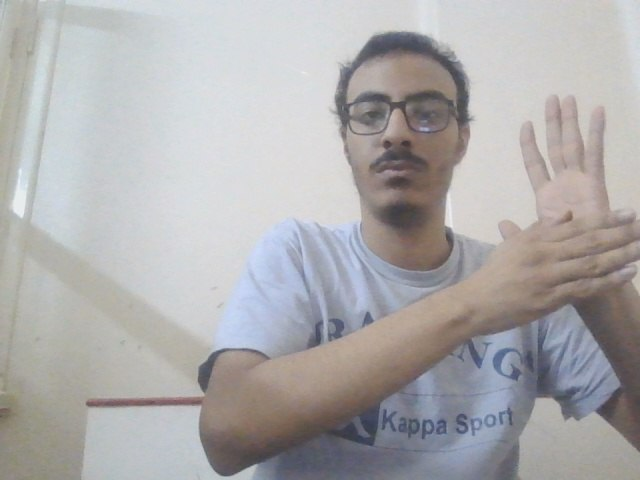Movie: (485, 90, 640, 325)
